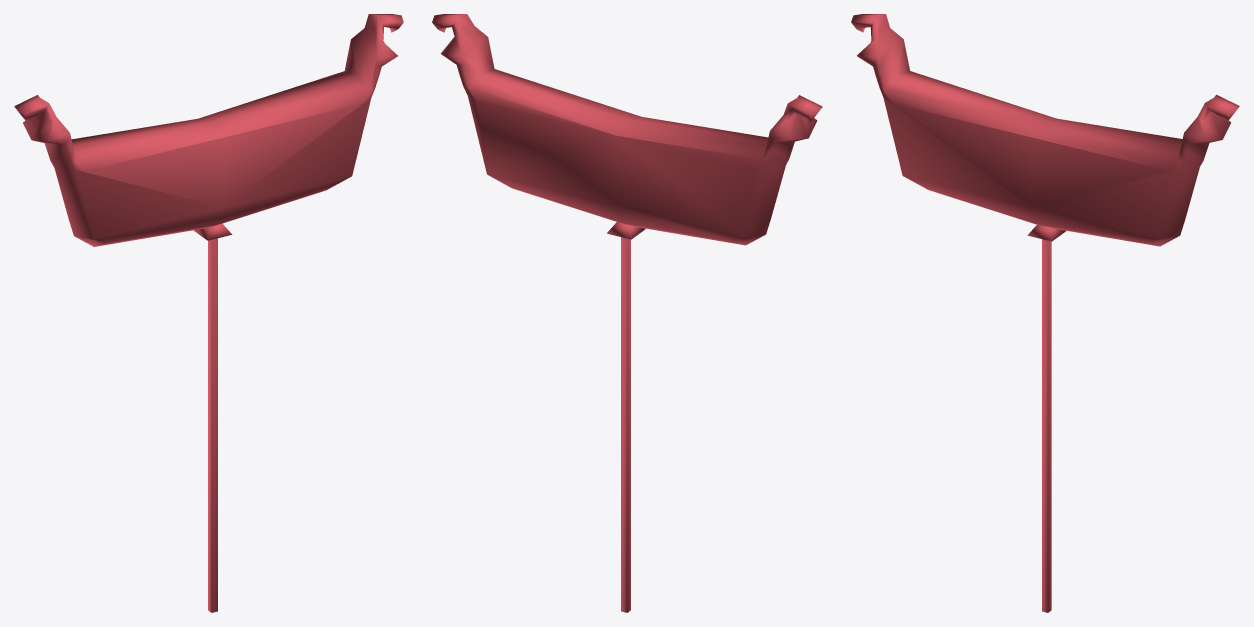
Rendered from boat_balloon.fbx.
3 views of the same model, side by side, from view 1: azimuth 30°, elevation 25°; view 2: azimuth 150°, elevation 25°; view 3: azimuth 330°, elevation 25° (orthographic).
Parts seen in each view (by area): view 1: boat_balloon; view 2: boat_balloon; view 3: boat_balloon.
Part boxes in pixels (box(x1,y1,x2,y2)): boat_balloon: box(14, 14, 403, 612); boat_balloon: box(432, 14, 822, 612); boat_balloon: box(851, 14, 1239, 612).
Size of the model in its own units: 1.48 by 0.1728 by 2.03.
